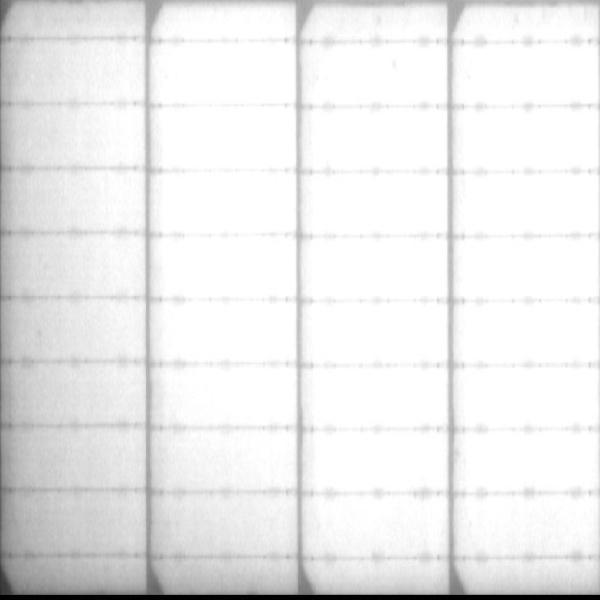hot_spot: (458, 175, 597, 229), (463, 111, 595, 167), (459, 49, 597, 99), (166, 175, 289, 230), (314, 114, 442, 166), (467, 373, 597, 423), (166, 46, 287, 99), (170, 115, 291, 166), (461, 245, 594, 291), (466, 313, 593, 361), (470, 441, 600, 487), (174, 241, 291, 292), (319, 242, 437, 292), (323, 369, 438, 418), (324, 49, 436, 99), (330, 434, 438, 485), (324, 310, 434, 358), (180, 306, 286, 355), (321, 186, 437, 229), (483, 503, 591, 546), (186, 377, 280, 422), (358, 508, 438, 550)
